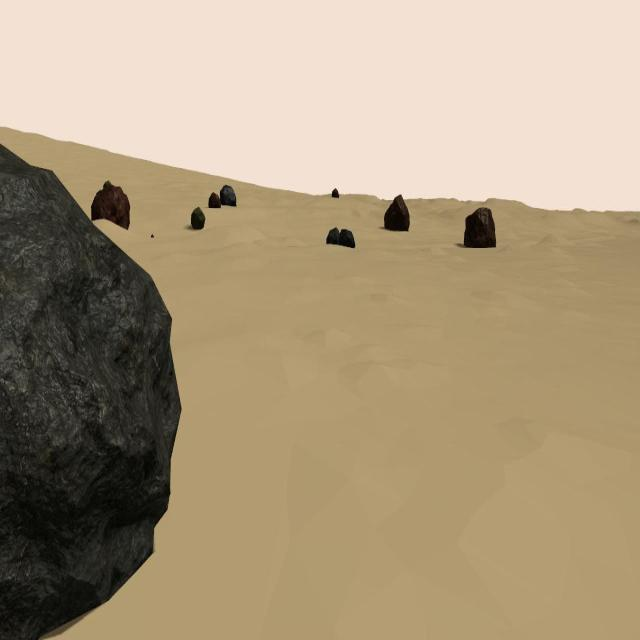rock: (0, 141, 182, 639), (92, 178, 130, 231), (464, 208, 496, 248), (383, 193, 410, 232), (220, 184, 237, 206), (191, 206, 205, 229), (341, 228, 354, 248), (326, 228, 339, 245), (208, 190, 220, 208), (332, 187, 339, 198)
